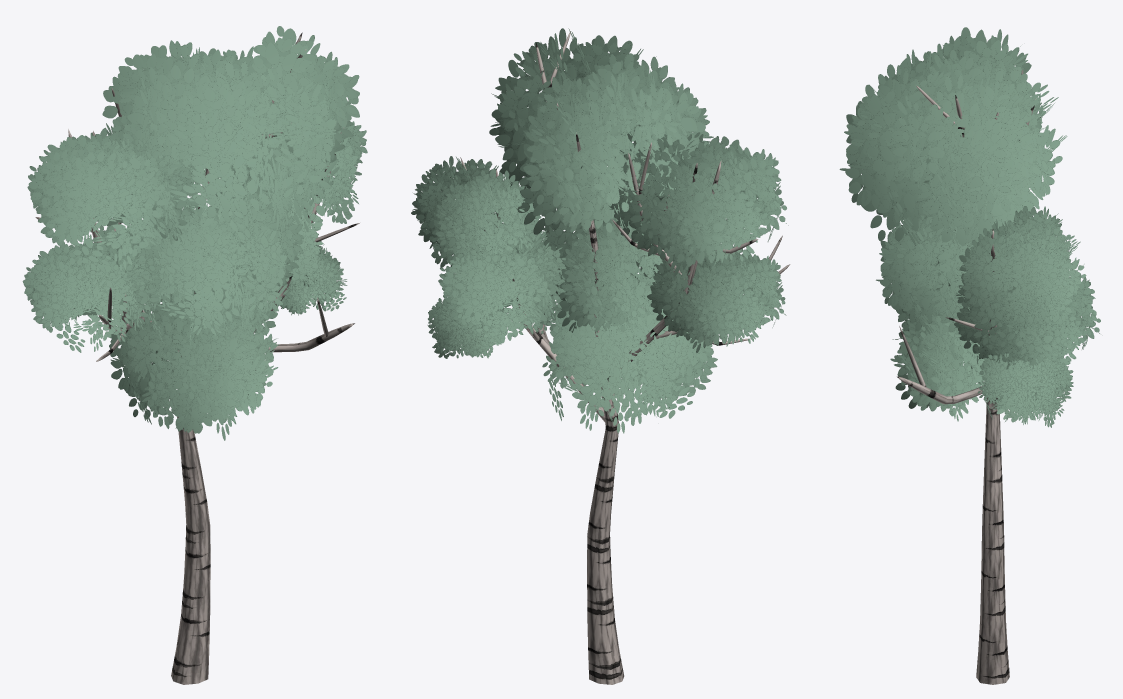
File: BirchTree_3.glb
The picture shows the model from 3 angles, left to right: view 1: azimuth 30°, elevation 25°; view 2: azimuth 150°, elevation 25°; view 3: azimuth 270°, elevation 25°; orthographic projection. The views are drawn at different scales.
Parts seen in each view (by area): view 1: BirchTree_3; view 2: BirchTree_3; view 3: BirchTree_3.
Boxes of the visible parts, x1,y1,x2,y2 form: BirchTree_3: [22, 26, 367, 684]; BirchTree_3: [411, 28, 790, 684]; BirchTree_3: [839, 27, 1100, 684].
Bounding box in the file's own units: 3.43 × 5.75 × 2.27.
Materials: 2 (2 with a texture image).
